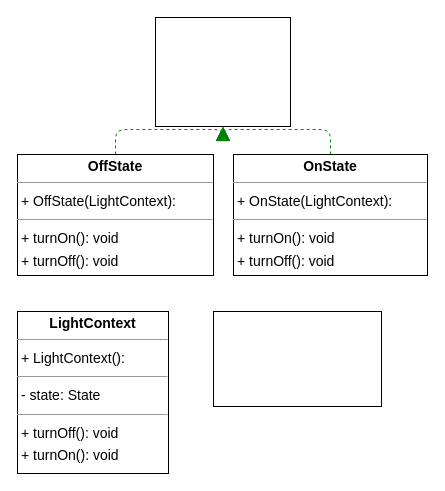
Some shapes in this 445 by 491 pixel diagram are drawn without their labels. The centre of each missing label's shape, as x and y in pixels:
"<<interface>> State + turnOff(): void + turnOn(): void" goes at pixel 222 71.
"Main + Main(): + main(String[]): void" goes at pixel 297 358.
